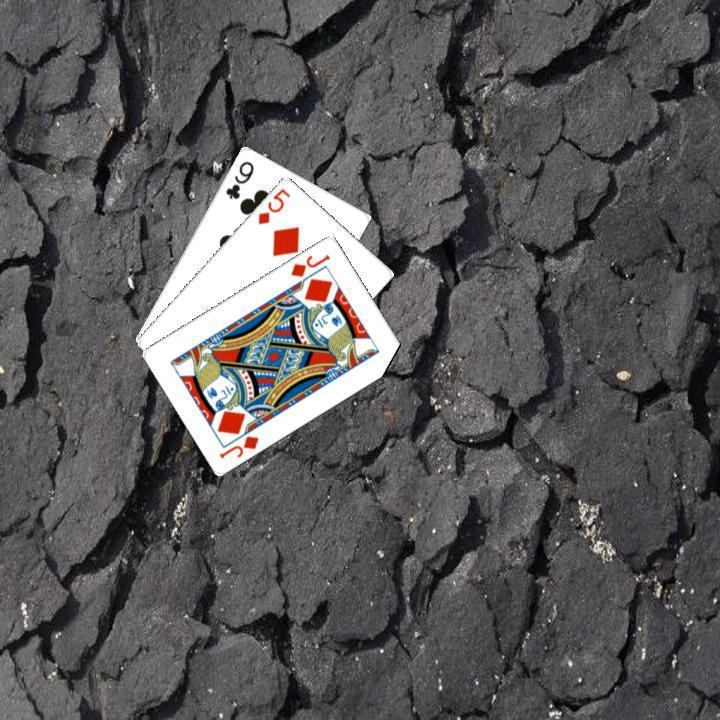5: (253, 184, 292, 226)
9: (221, 156, 256, 201)
J: (286, 249, 332, 279), (215, 431, 261, 461)
